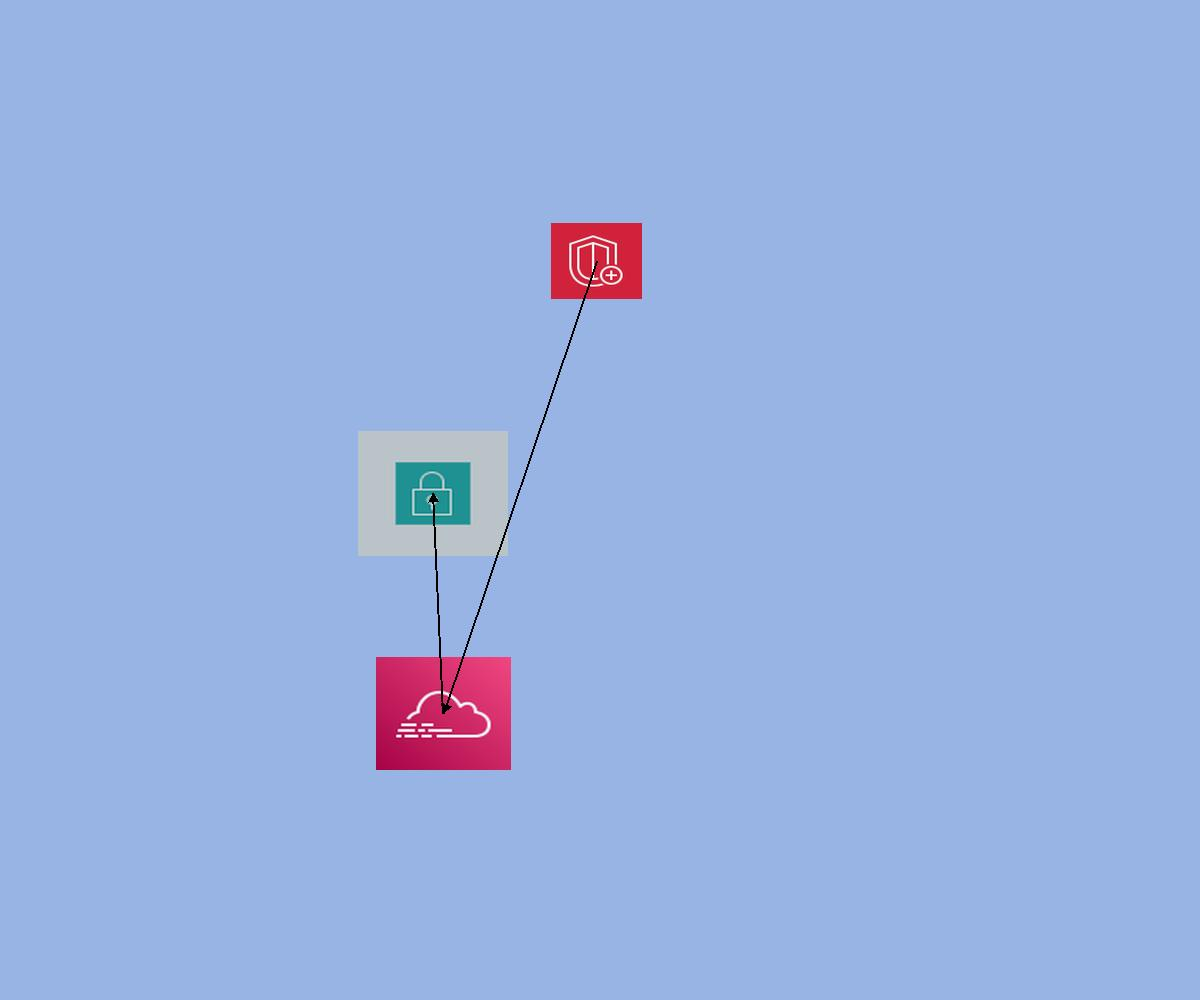AWS-CloudTrail: (376, 657, 511, 770)
AWS-Private-subnet: (358, 431, 508, 556)
AWS-Shield: (551, 223, 642, 299)
